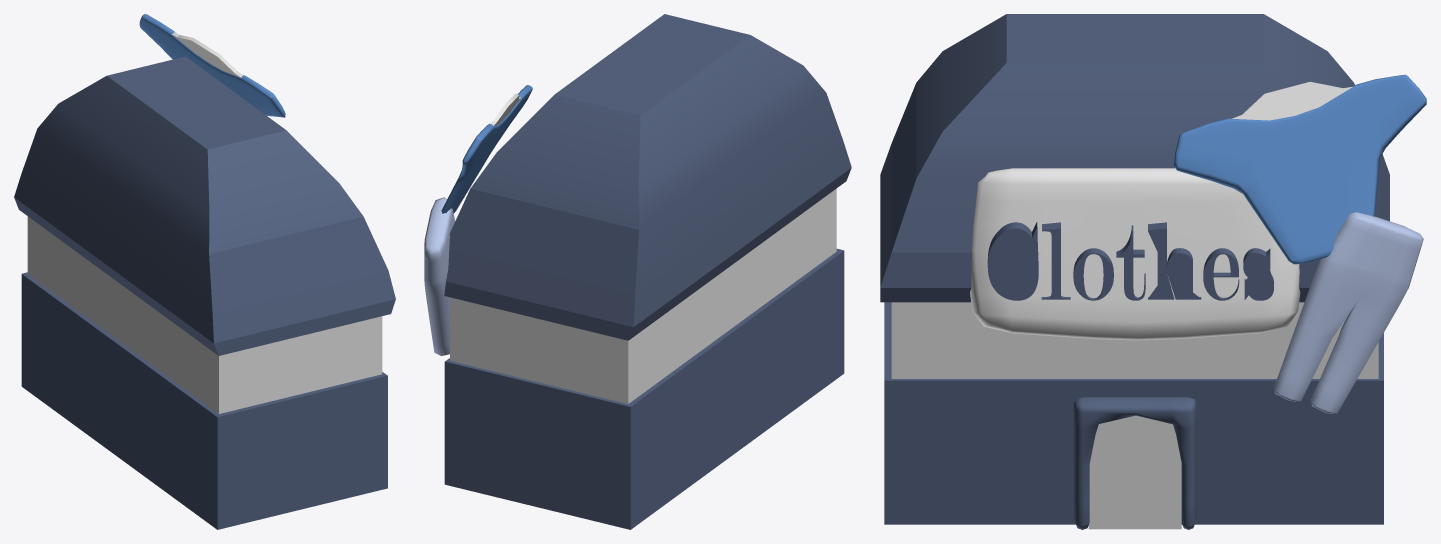
The model's file is Clothesshop.fbx.
The picture shows the model from 3 angles, left to right: view 1: azimuth 30°, elevation 25°; view 2: azimuth 150°, elevation 25°; view 3: azimuth 270°, elevation 25°; orthographic projection. The views are drawn at different scales.
Parts seen in each view (by area): view 1: pCube1, pCube10, pCube23, pCube24; view 2: pCube1, pCube10, pCube25, pCube23; view 3: pCube1, pCube10, pCube2, pCube23, pCube25, typeMesh1, pCube11, pCube3, pCube24.
Part boxes in pixels (bbox=[...]): pCube1: bbox=[14, 56, 395, 413]; pCube10: bbox=[21, 272, 387, 529]; pCube23: bbox=[139, 14, 285, 117]; pCube24: bbox=[172, 32, 243, 77]; pCube1: bbox=[444, 14, 851, 403]; pCube10: bbox=[444, 248, 844, 529]; pCube25: bbox=[424, 197, 455, 355]; pCube23: bbox=[441, 85, 532, 213]; pCube1: bbox=[880, 14, 1389, 378]; pCube10: bbox=[884, 302, 1383, 524]; pCube2: bbox=[970, 168, 1300, 340]; pCube23: bbox=[1173, 74, 1426, 264]; pCube25: bbox=[1273, 212, 1423, 413]; typeMesh1: bbox=[987, 222, 1273, 300]; pCube11: bbox=[1088, 415, 1181, 529]; pCube3: bbox=[1073, 397, 1196, 529]; pCube24: bbox=[1232, 81, 1352, 120].
Bounding box in the file's own units: 7.8 × 11.55 × 13.35.
